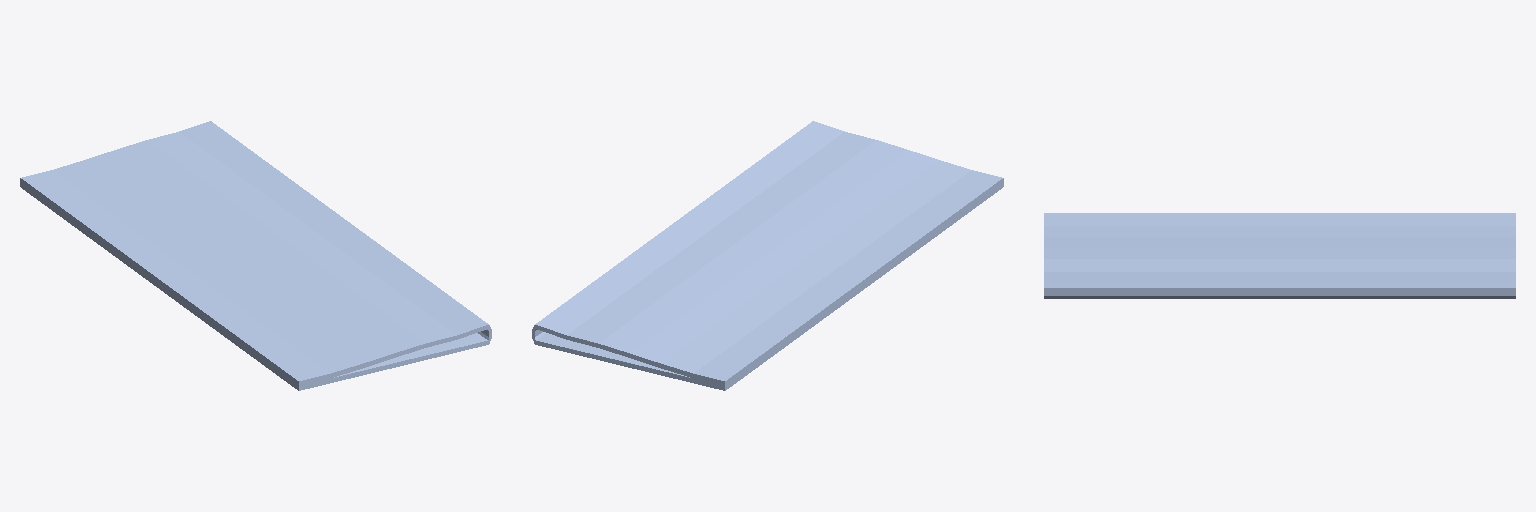
robot.urdf — model.urdf:
<?xml version="1.0" ?>
<robot name="model.urdf">
  <link name="baseLink">
    <contact>
      <friction_anchor/>
      <lateral_friction value="0.3"/>
      <rolling_friction value="0.0"/>
      <contact_cfm value="0.0"/>
      <contact_erp value="1.0"/>
    </contact>
    <inertial>
       <origin rpy="0 0 0" xyz="0 0 0"/>
       <mass value="0.1"/>
       <inertia ixx="8e-05" ixy="0" ixz="0" iyy="0.0002" iyz="0" izz="0.0002"/>
    </inertial>
    <visual>
      <geometry>
        <mesh filename="textured.dae" scale="1 1 1"/>
      </geometry>
      <material name="blue">
        <color rgba="0.78 0.85 0.97 1."/>
      </material>
    </visual>
    <collision>
      <geometry>
    	 	<mesh filename="textured.dae" scale="1 1 1"/>
      </geometry>
    </collision>
  </link>
</robot>

--- What the picture shows (computed from the rendered views, not written in the file) ---
The picture shows the robot from 3 angles, left to right: view 1: azimuth 30°, elevation 25°; view 2: azimuth 150°, elevation 25°; view 3: azimuth 270°, elevation 25°; orthographic projection.
Robot: model.urdf — 1 links, 0 joints (none); root link baseLink; default pose: every joint at zero.
Links seen in each view (by area): view 1: baseLink; view 2: baseLink; view 3: baseLink.
Link boxes in pixels (x1,y1,x2,y2): baseLink: [20, 121, 491, 390]; baseLink: [532, 121, 1003, 390]; baseLink: [1044, 213, 1515, 298].
Size in the robot's own frame: 0.1 by 0.25 by 0.01 metres.
Meshes: 1 distinct files referenced, 1 mesh visuals loaded (1 Collada DAE).